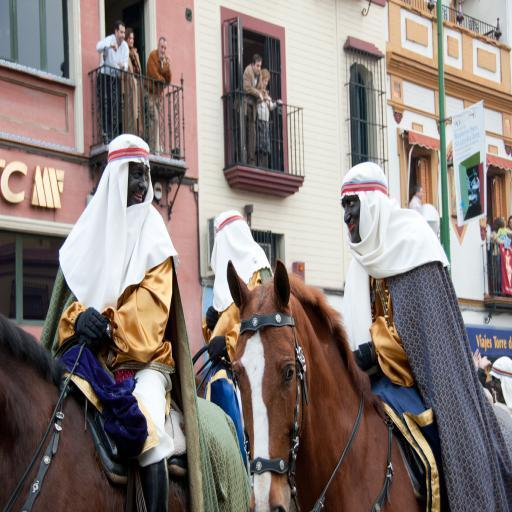horse: (228, 260, 512, 512), (0, 314, 247, 512)
